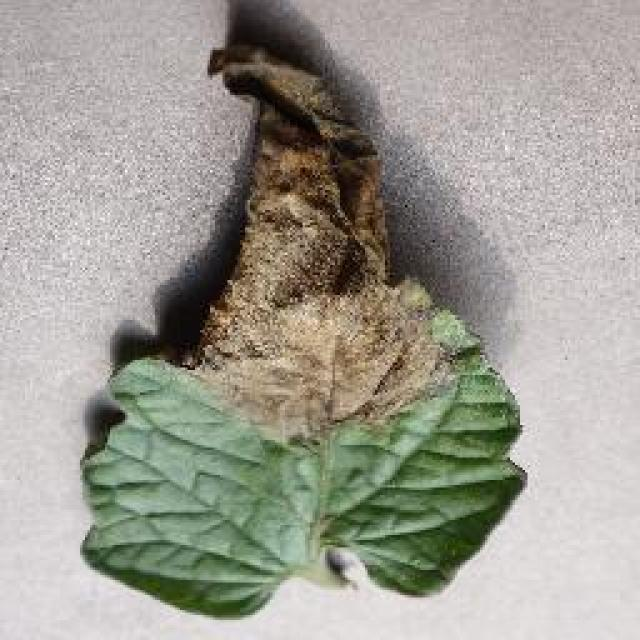Tomato Late Blight: (152, 73, 503, 442)
